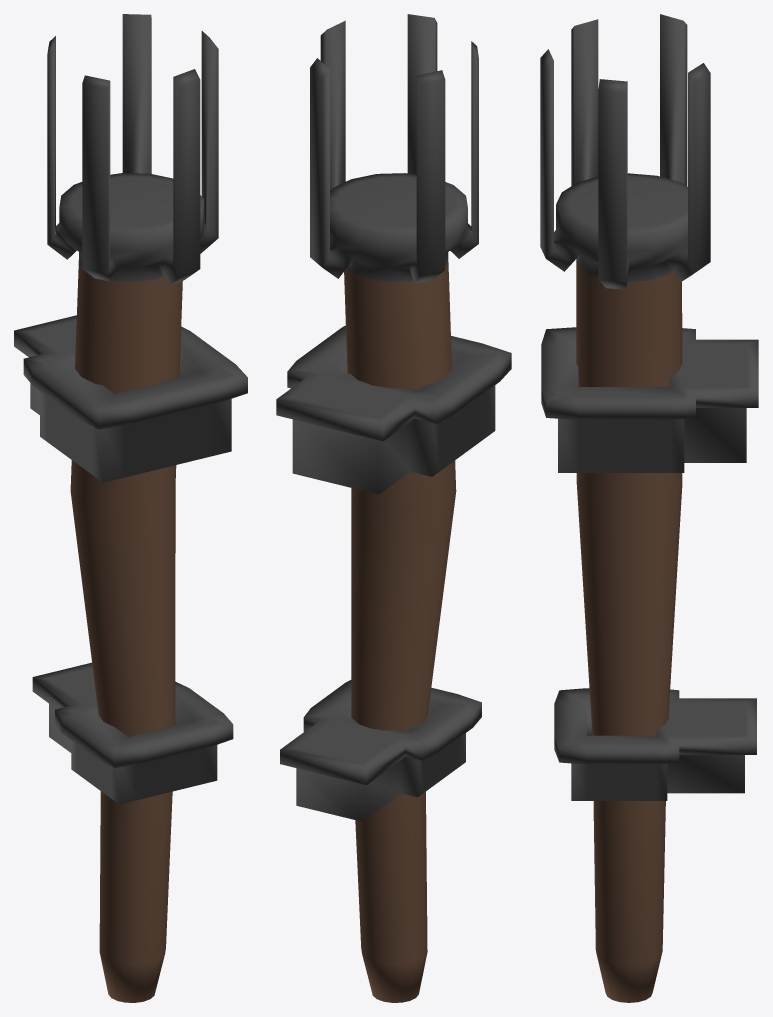
The model's file is torch.fbx.
3 renders of one model, left to right at view 1: azimuth 30°, elevation 25°; view 2: azimuth 150°, elevation 25°; view 3: azimuth 270°, elevation 25°, orthographic.
Visible parts, largest first — view 1: torch; view 2: torch; view 3: torch.
Part boxes in pixels (x1,y1,x2,y2): torch: [14, 14, 247, 1002]; torch: [276, 14, 511, 1002]; torch: [540, 14, 758, 1002].
Size of the model in its own units: 108 by 620 by 129.
